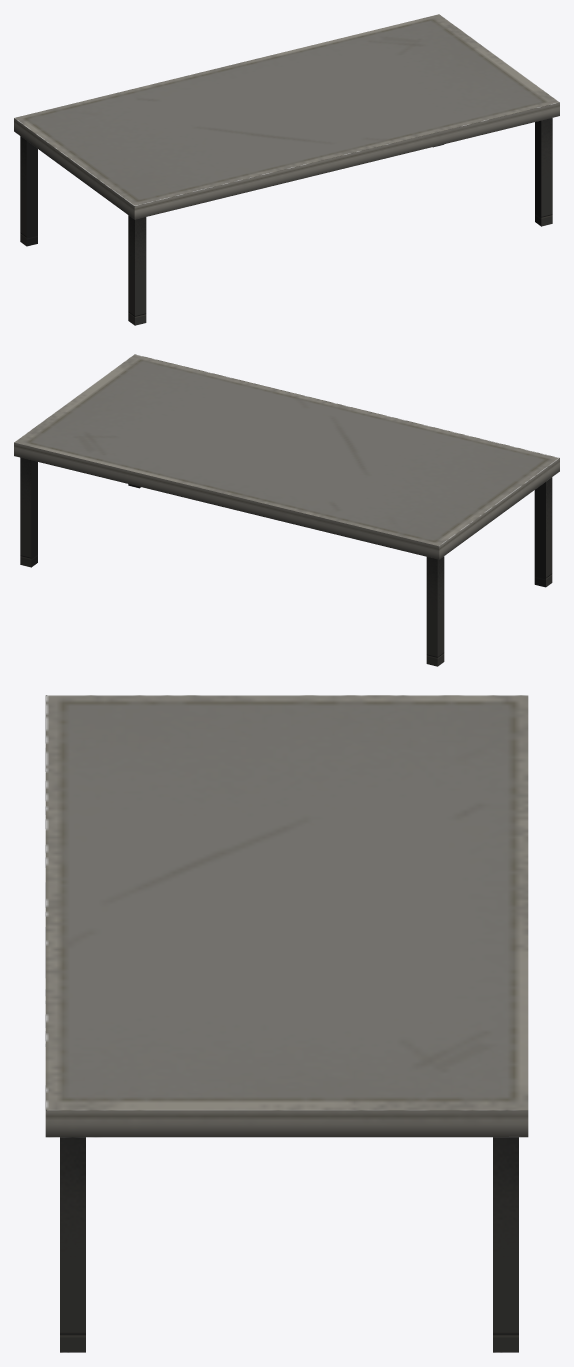
File: Table1.fbx
3 views of the same model, one above another, from view 1: azimuth 30°, elevation 25°; view 2: azimuth 150°, elevation 25°; view 3: azimuth 270°, elevation 25° (orthographic). The views are drawn at different scales.
Visible parts, largest first — view 1: Table1; view 2: Table1; view 3: Table1.
Part boxes in pixels (x1,y1,x2,y2): Table1: (14,14,559,325); Table1: (14,354,559,666); Table1: (45,695,528,1352).
Bounding box in the file's own units: 200 × 55.28 × 98.32.
